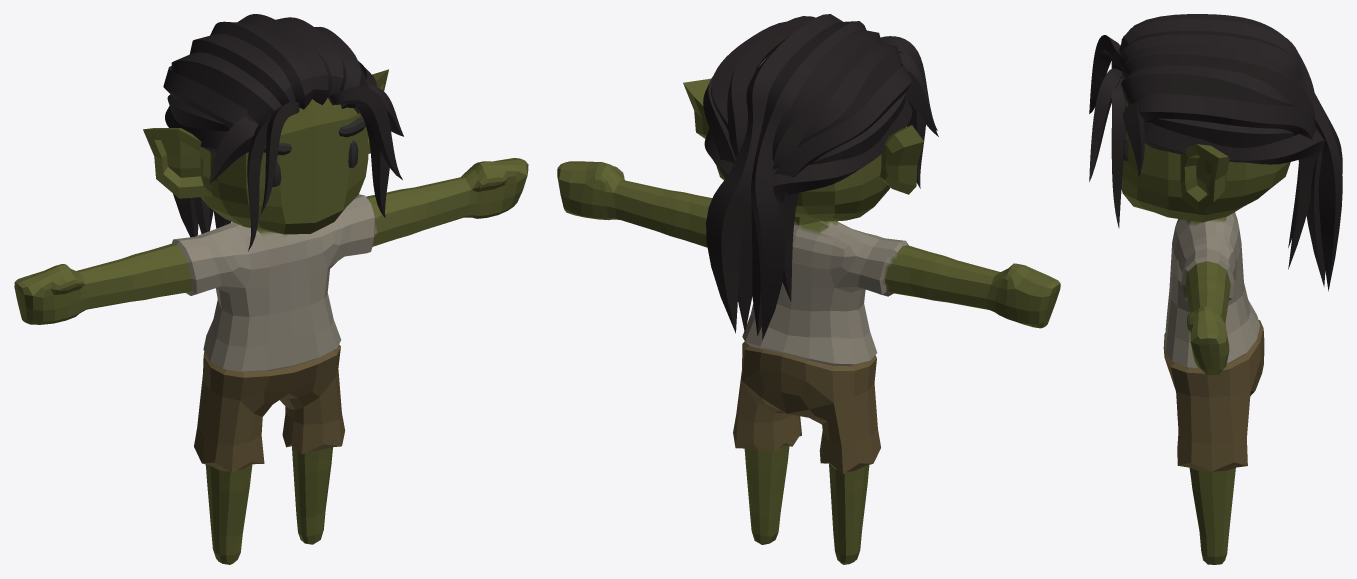
The model's file is Goblin_Female.fbx.
3 views of the same model, side by side, from view 1: azimuth 30°, elevation 25°; view 2: azimuth 150°, elevation 25°; view 3: azimuth 270°, elevation 25° (orthographic). The views are drawn at different scales.
Parts seen in each view (by area): view 1: Body; view 2: Body; view 3: Body.
Boxes of the visible parts, <box> form: Body: <box>14,14,528,564</box>; Body: <box>557,14,1060,564</box>; Body: <box>1089,14,1342,564</box>.
Size of the model in its own units: 324 by 320 by 142.
1 material, 1 textured.
